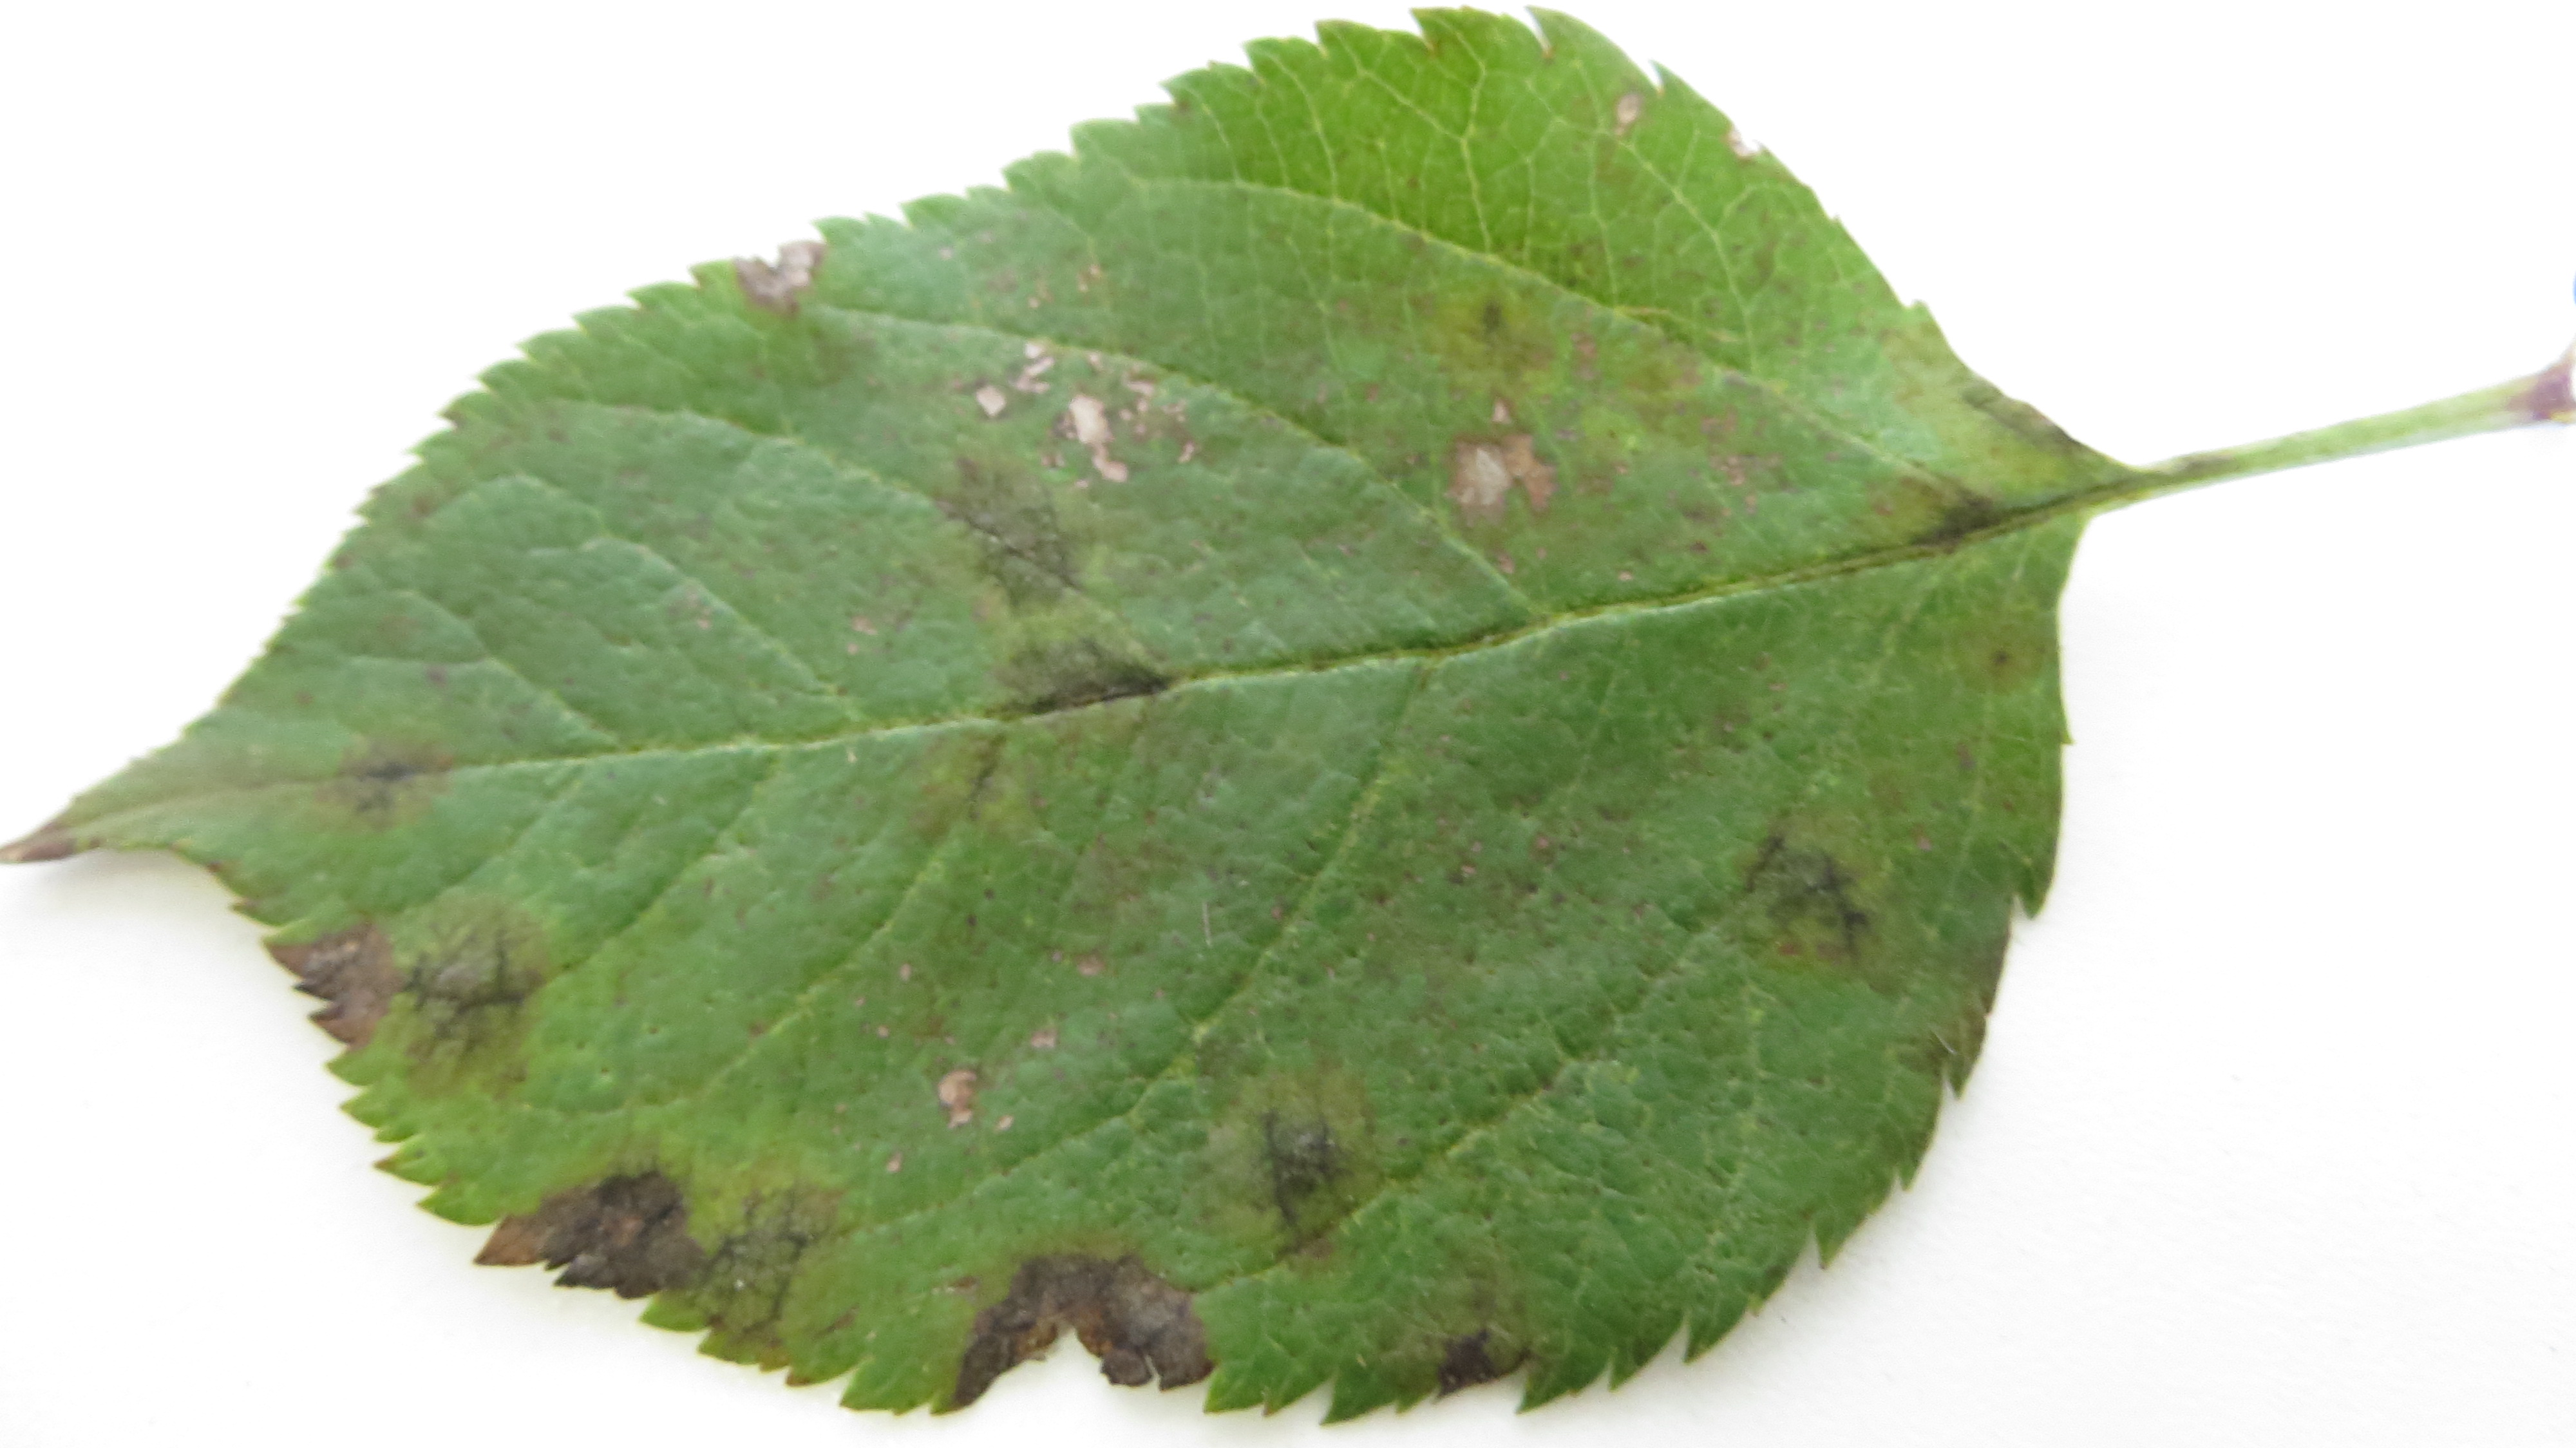sarna: (950, 1228, 1205, 1406), (1205, 1050, 1396, 1269), (478, 1147, 704, 1322), (908, 428, 1104, 620), (699, 1138, 855, 1374), (1405, 377, 1578, 574), (987, 627, 1214, 774), (400, 867, 534, 1083), (1734, 818, 1905, 977), (1348, 1252, 1534, 1393), (1637, 363, 1790, 520), (1868, 441, 2017, 577), (269, 899, 402, 1046), (318, 705, 458, 839), (915, 728, 1031, 843), (957, 313, 1069, 427), (911, 1041, 1021, 1152), (1431, 280, 1545, 379), (1058, 374, 1146, 496), (727, 228, 826, 326)
